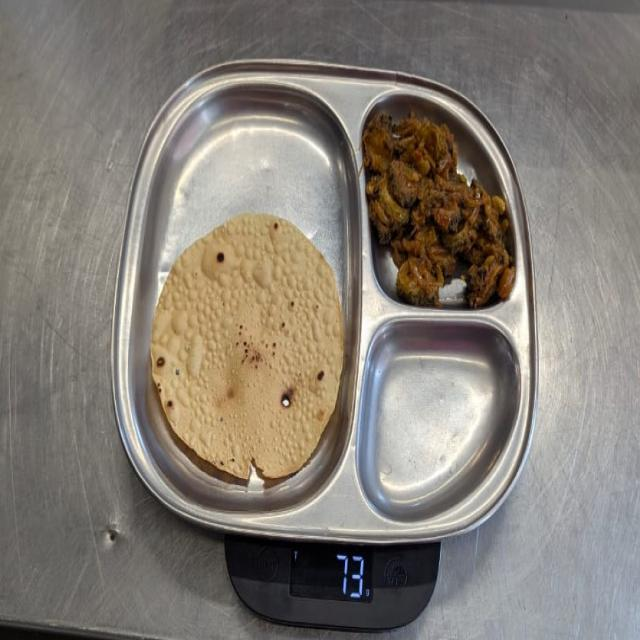Karela Sabji: (362, 104, 523, 304)
Papad: (150, 211, 348, 484)
